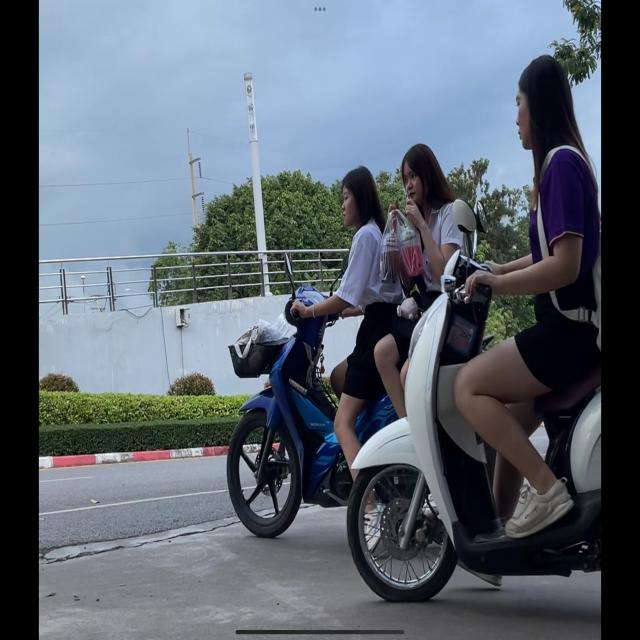seatbelt: (514, 53, 574, 152), (338, 165, 381, 230), (399, 140, 440, 206)
